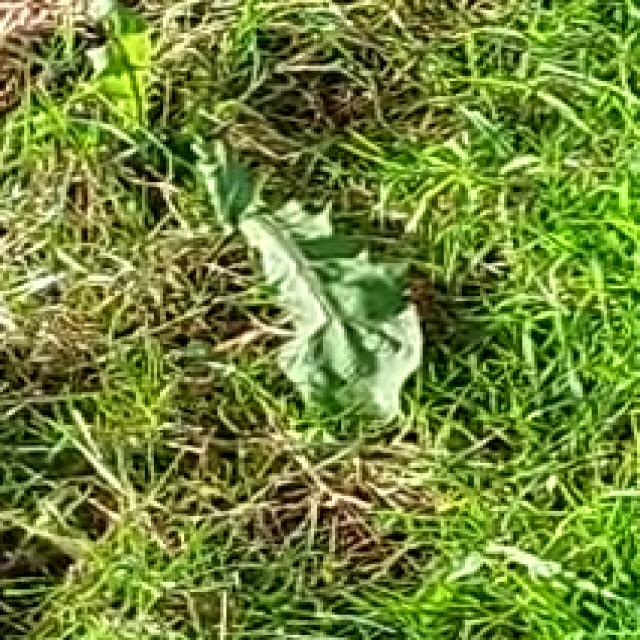organic waste: (75, 8, 474, 466)
